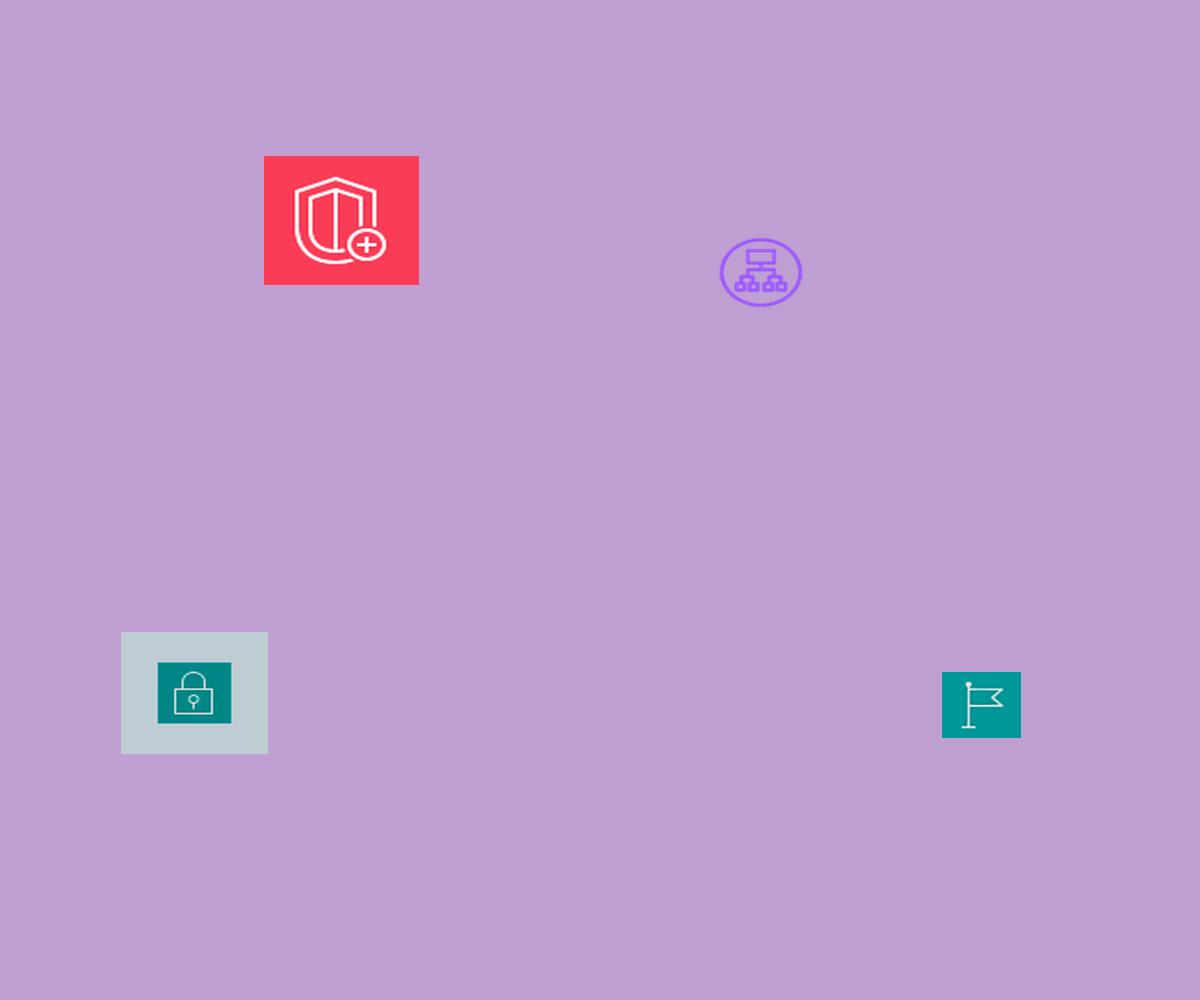AWS-Private-subnet: (121, 632, 268, 754)
AWS-Region: (942, 672, 1021, 738)
AWS-Res_Elastic-Load-Balancing_Application-Load-Balancer: (716, 235, 806, 310)
AWS-Shield: (264, 156, 419, 285)
